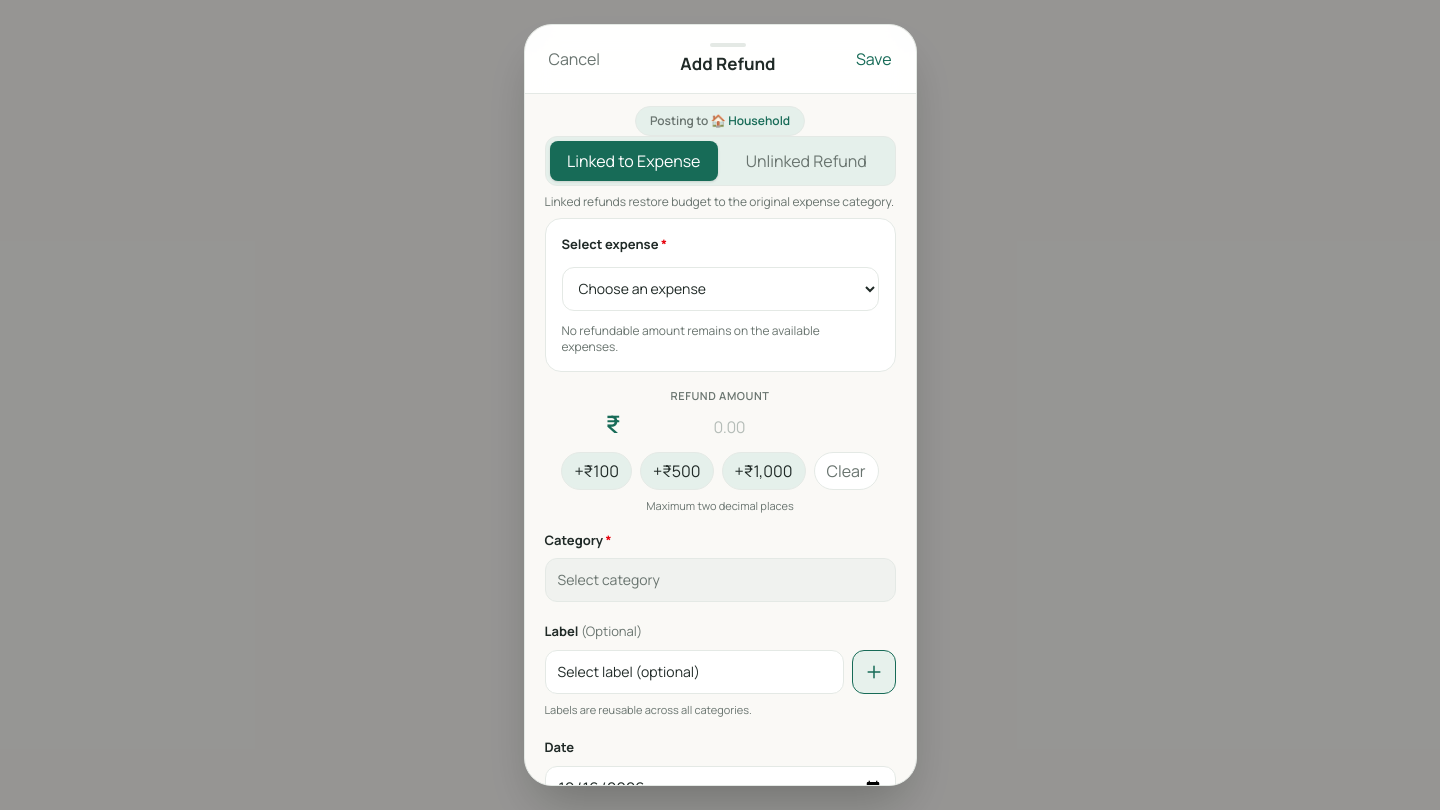
Test: AddRefundSheet › requires an explicit expense for linked refunds
Type "1.00" into the field labelled "Amount" at (729, 427), box [624,415,834,439]
(page scrolled)
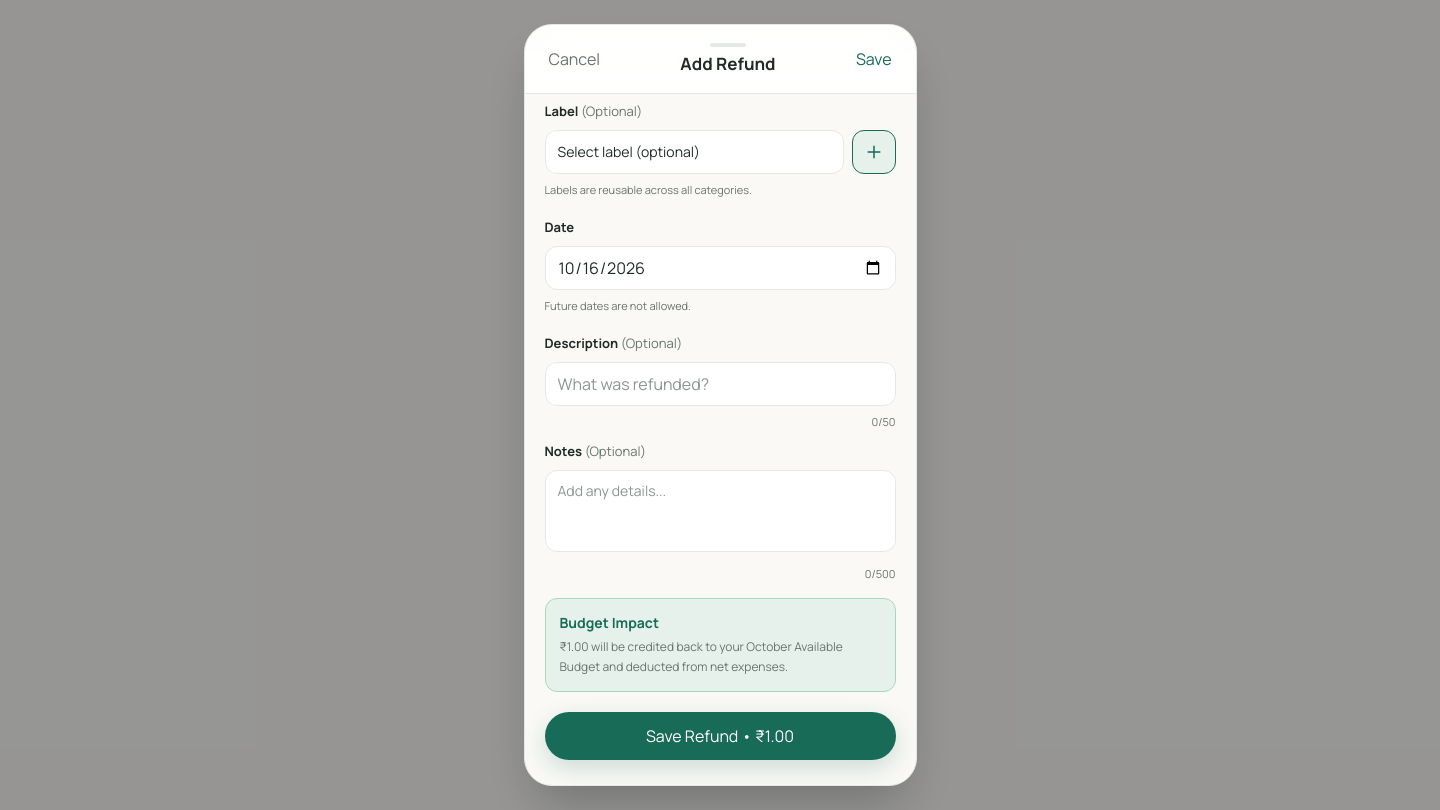
Click the button "Save Refund • ₹1.00" at (720, 736), box [544,712,896,760]
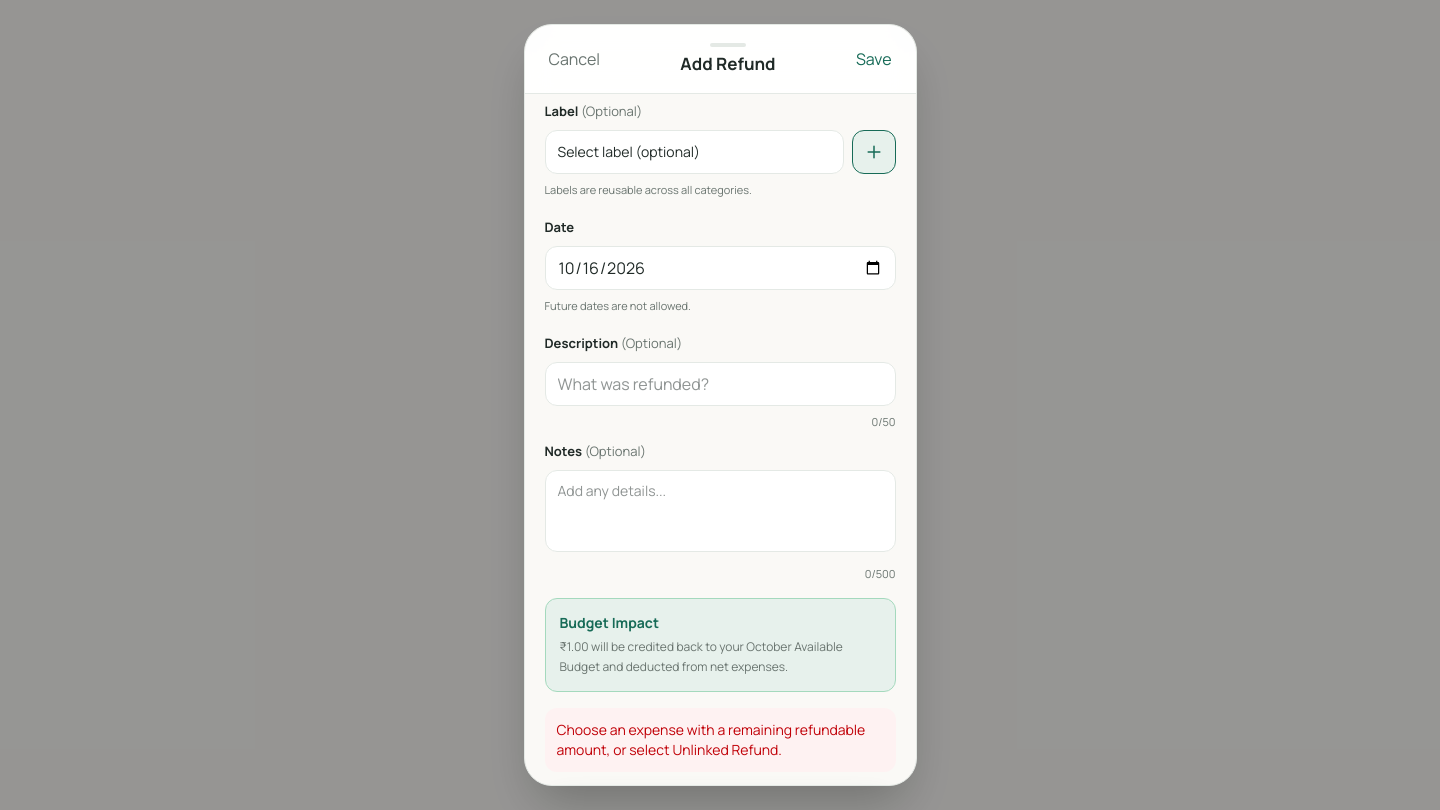
Expected: the message shows "Choose an expense", [556,720,865,759]
